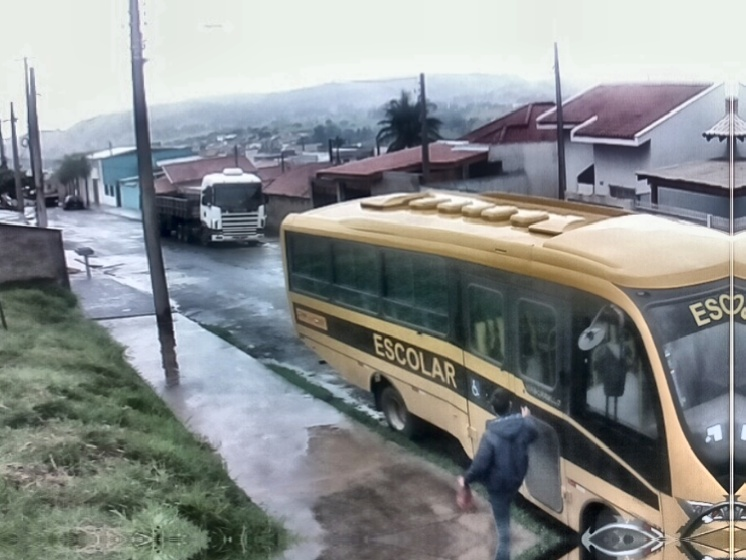person: (458, 385, 537, 560)
